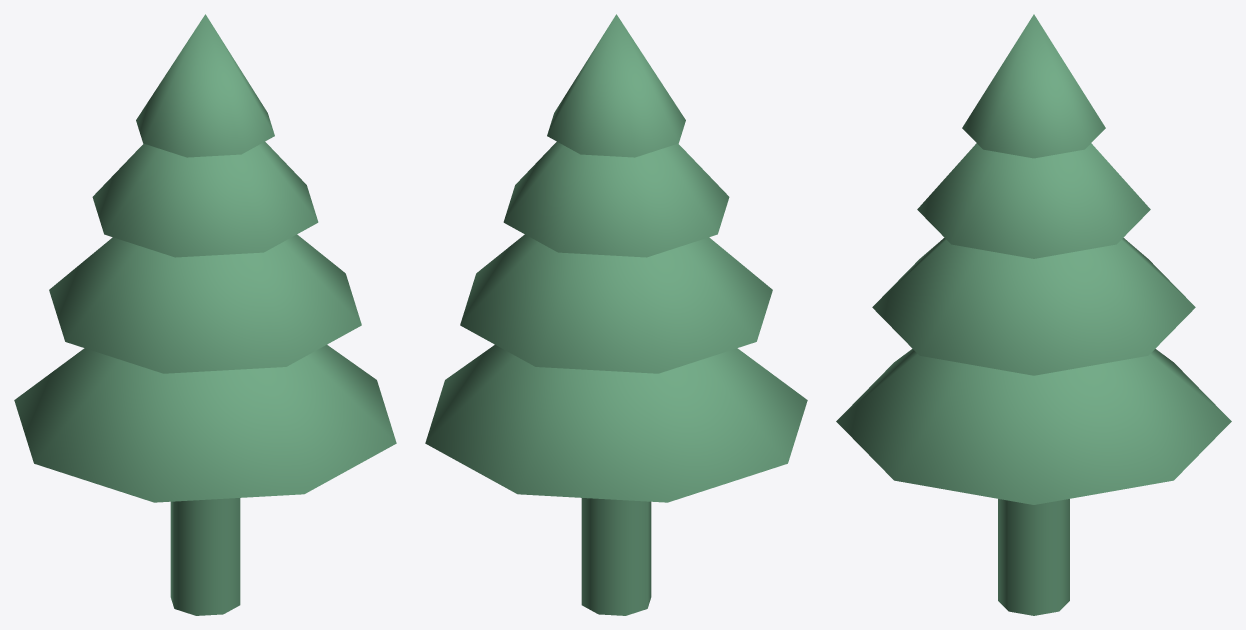
File: tree_conifer.gltf
3 renders of one model, left to right at view 1: azimuth 30°, elevation 25°; view 2: azimuth 150°, elevation 25°; view 3: azimuth 270°, elevation 25°, orthographic.
Parts seen in each view (by area): view 1: tree_conifer; view 2: tree_conifer; view 3: tree_conifer.
Boxes of the visible parts, box(x1,y1,x2,y2) form: tree_conifer: box(14, 14, 396, 615); tree_conifer: box(425, 14, 807, 615); tree_conifer: box(836, 14, 1231, 615).
Size of the model in its own units: 4.4 by 7.2 by 4.4.
